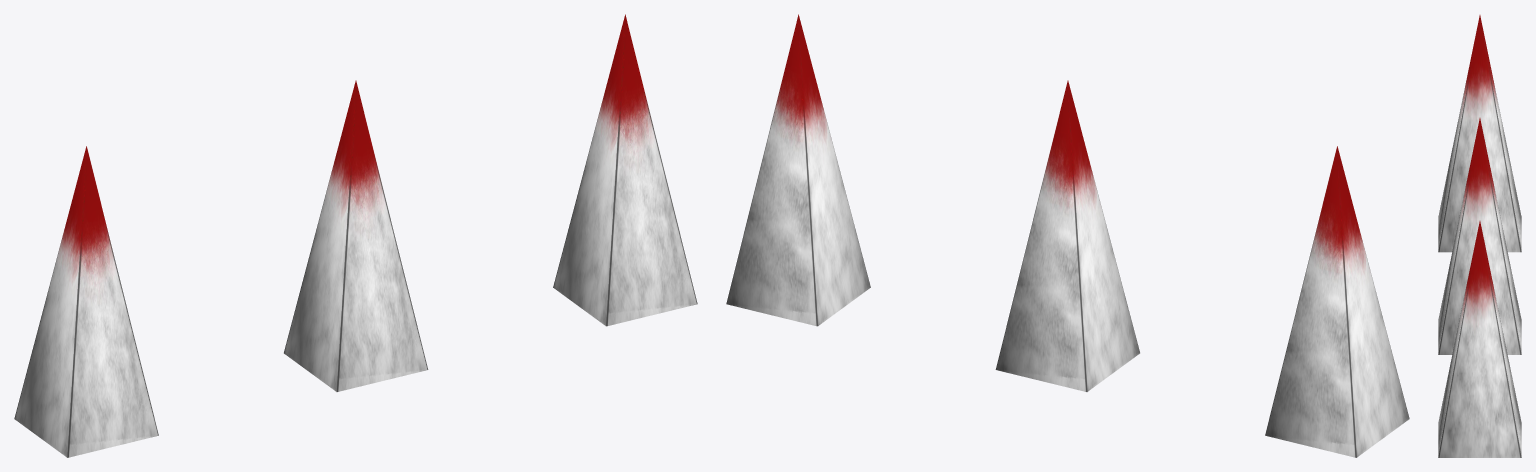
Rendered from Spikes.fbx.
3 views of the same model, side by side, from view 1: azimuth 30°, elevation 25°; view 2: azimuth 150°, elevation 25°; view 3: azimuth 270°, elevation 25° (orthographic). The views are drawn at different scales.
Visible parts, largest first — view 1: pCone3, pCone2, pCone1; view 2: pCone3, pCone2, pCone1; view 3: pCone2, pCone3, pCone1.
Boxes of the visible parts, <box> form: pCone3: <box>14,146,158,457</box>; pCone2: <box>553,14,697,326</box>; pCone1: <box>284,80,428,391</box>; pCone3: <box>1265,146,1409,457</box>; pCone2: <box>726,14,870,326</box>; pCone1: <box>995,80,1139,391</box>; pCone2: <box>1438,221,1521,457</box>; pCone3: <box>1438,15,1521,252</box>; pCone1: <box>1438,118,1521,354</box>.
Size of the model in its own units: 2.34 by 1 by 0.3421.
1 material, 1 textured.
